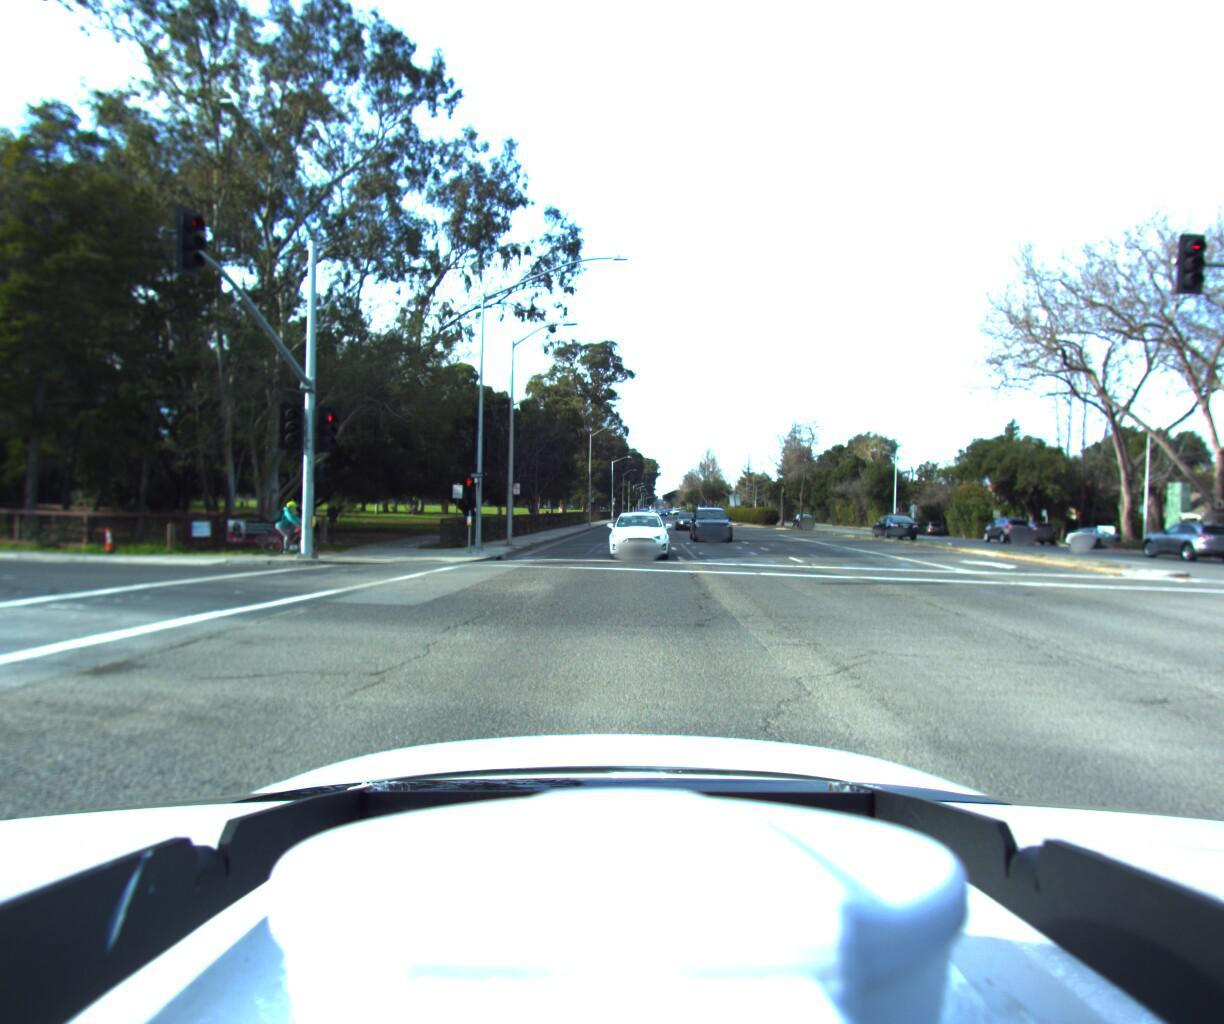bicycle: (257, 501, 324, 557)
car: (1122, 520, 1224, 560), (607, 506, 671, 559), (689, 504, 735, 543), (1063, 525, 1131, 549), (970, 513, 1027, 541), (867, 511, 916, 541), (1012, 520, 1056, 545), (669, 509, 697, 532), (788, 513, 814, 527)
